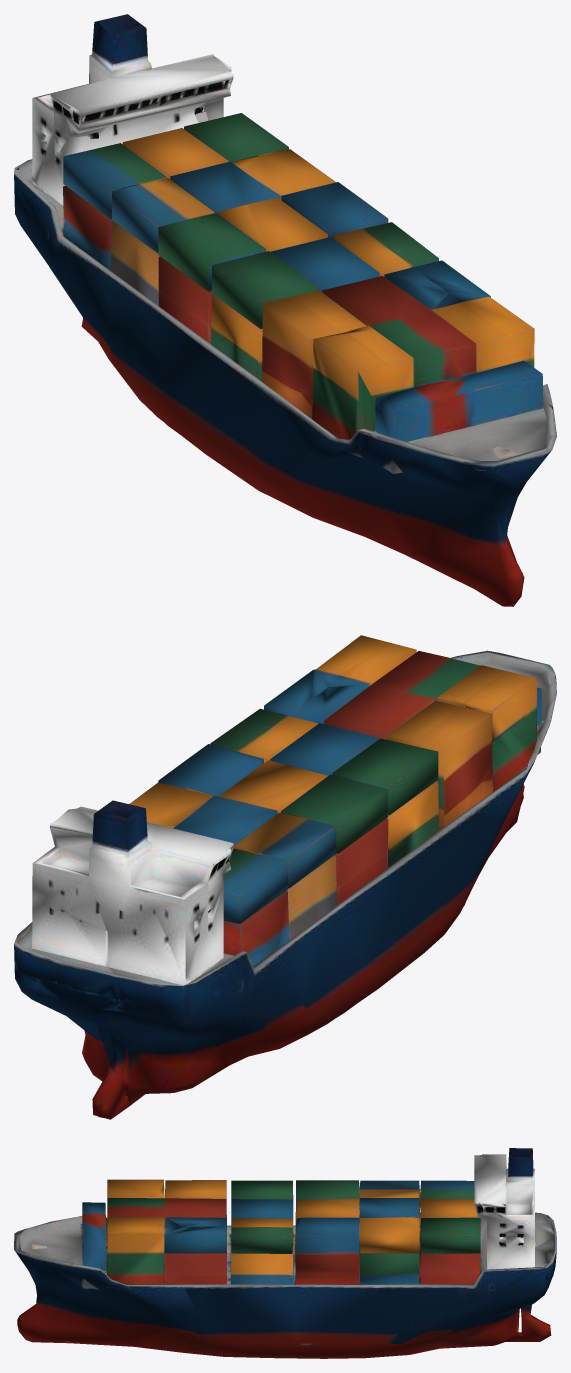
Rendered from hafen_frachtschiff_einfach.glb.
The picture shows the model from 3 angles, top to bottom: view 1: azimuth 30°, elevation 25°; view 2: azimuth 150°, elevation 25°; view 3: azimuth 270°, elevation 25°; orthographic projection. The views are drawn at different scales.
Visible parts, largest first — view 1: Prop; view 2: Prop; view 3: Prop.
Boxes of the visible parts, x1,y1,x2,y2 form: Prop: [14, 14, 556, 606]; Prop: [14, 635, 556, 1119]; Prop: [14, 1148, 556, 1358].
Bounding box in the file's own units: 0.6928 × 1 × 2.62.
1 material, 1 textured.
